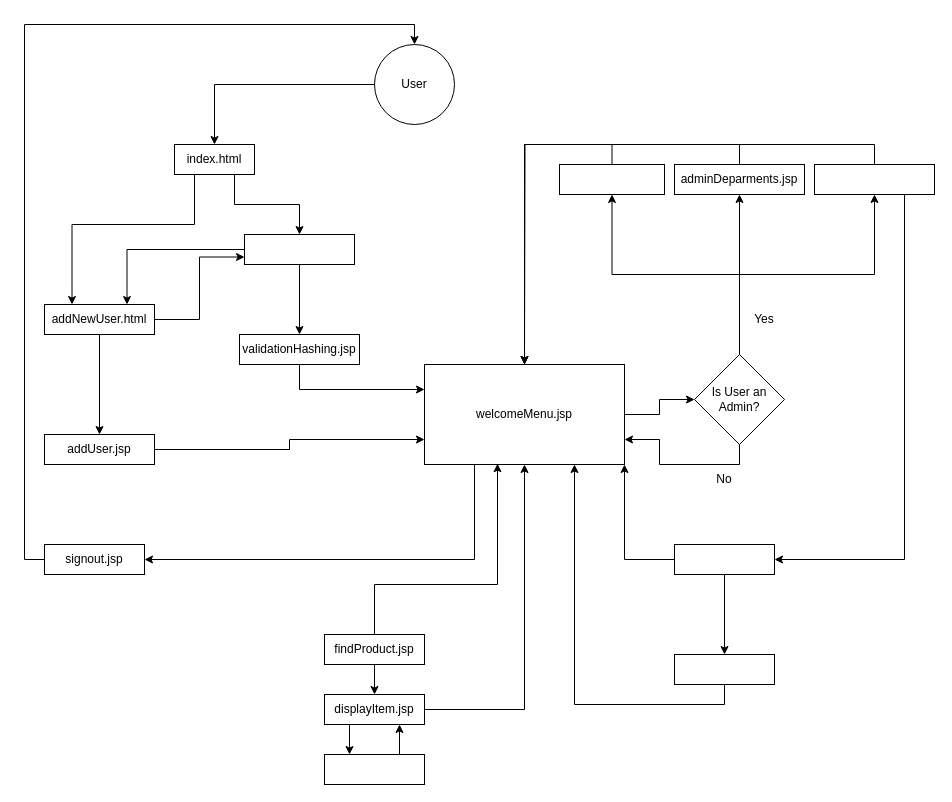
This 952x802 diagram has some shape labels left out. The shapes that lost their labels are listed below. From the top down, each one's box as (x1, y1, x2, y2) in pixels, then its label:
(558, 164, 664, 194): adminUsers.jsp
(814, 164, 934, 194): adminProducts.jsp
(244, 234, 354, 264): loginHashing.html
(674, 544, 774, 574): sellProduct.jsp
(674, 654, 774, 684): upload_action.jsp
(324, 754, 424, 784): bidProduct.jsp
